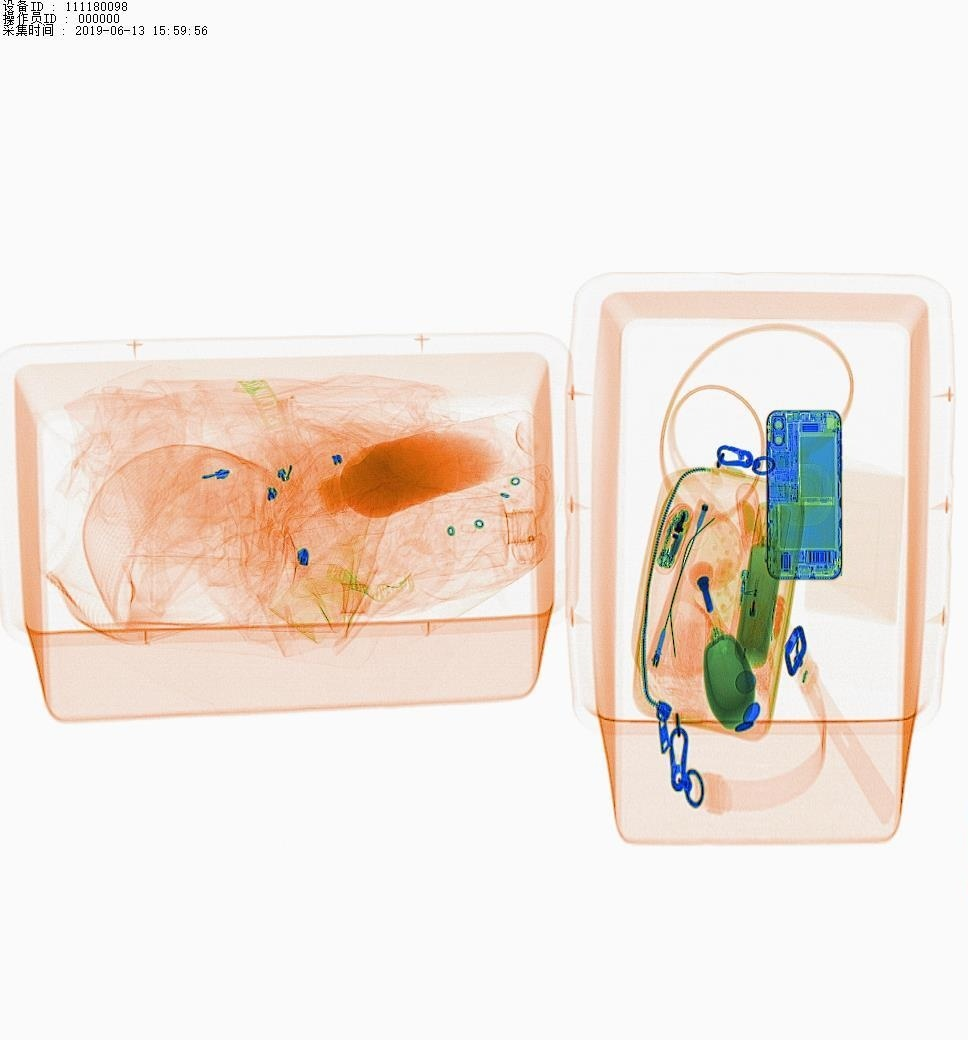NonmetallicFire: (734, 541, 782, 654)
